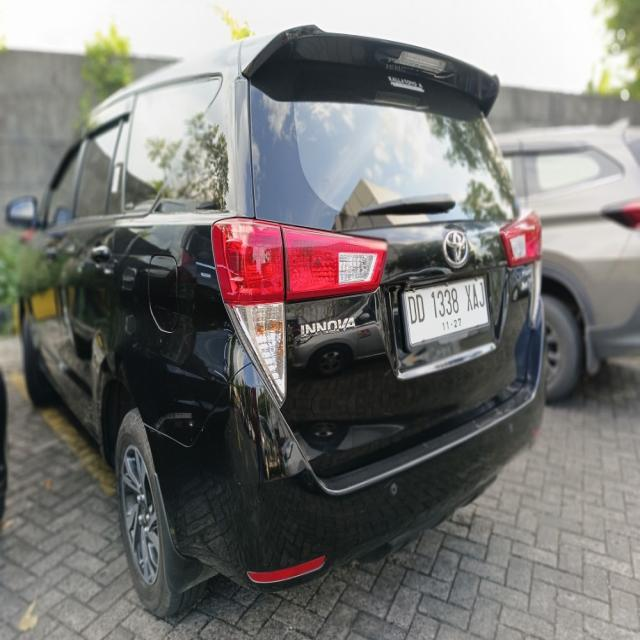plates: (402, 278, 490, 345)
